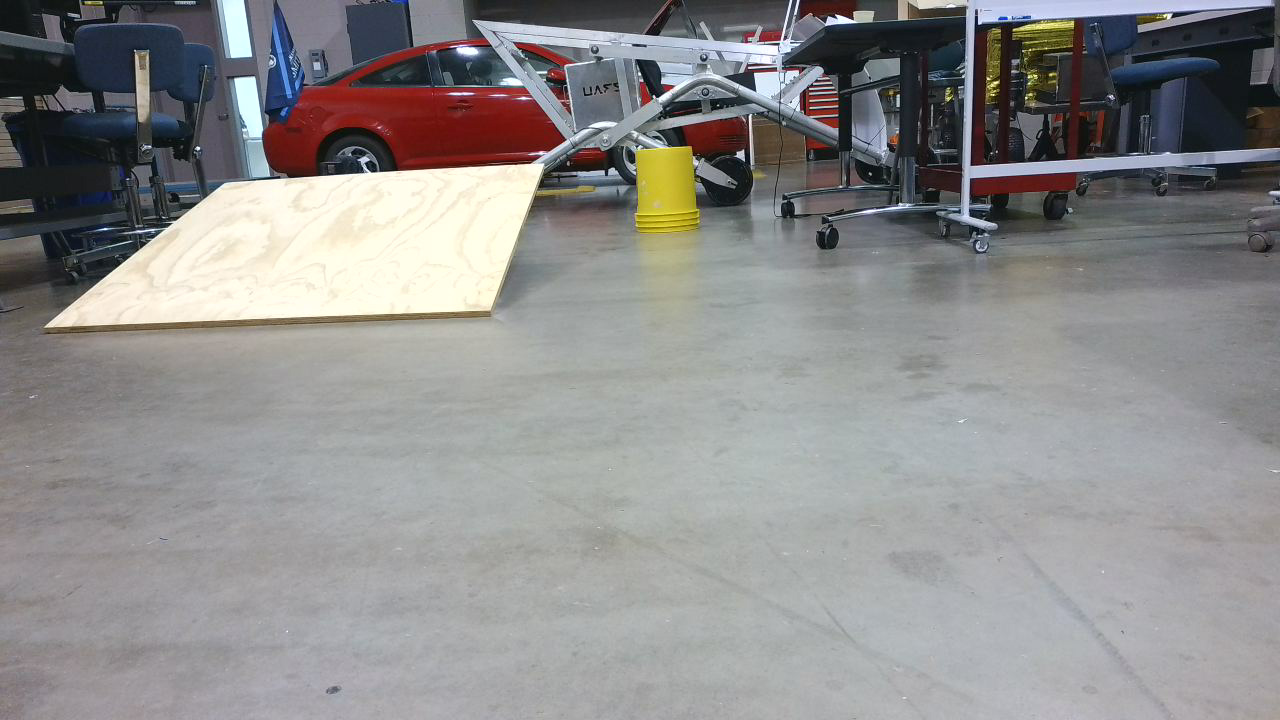concrete_block: (40, 168, 547, 342)
yellow_bucket: (639, 152, 704, 239)
